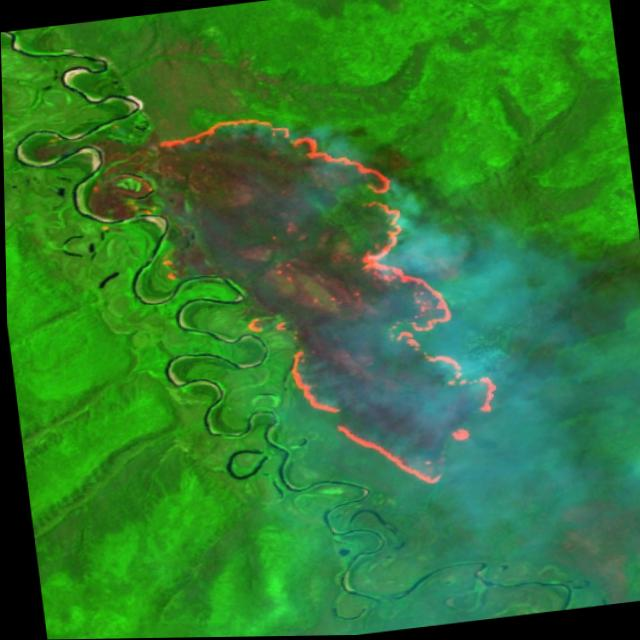fire: (127, 89, 516, 526)
